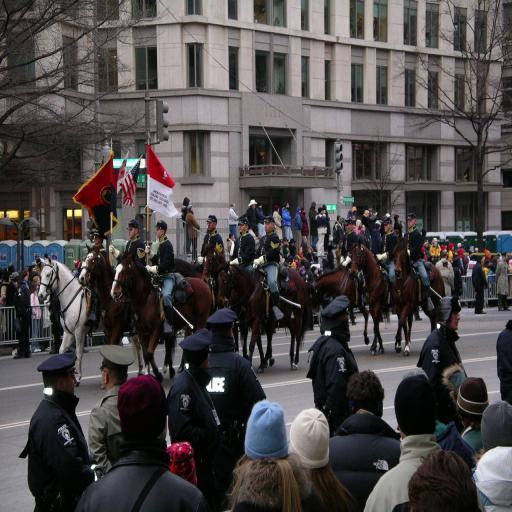horse: (36, 234, 446, 388)
